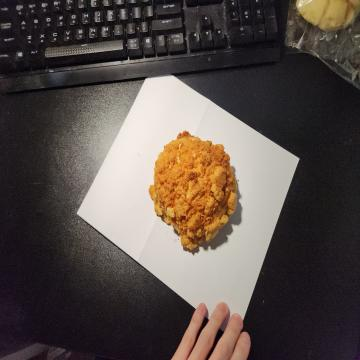soboru_bread: (149, 132, 241, 257)
